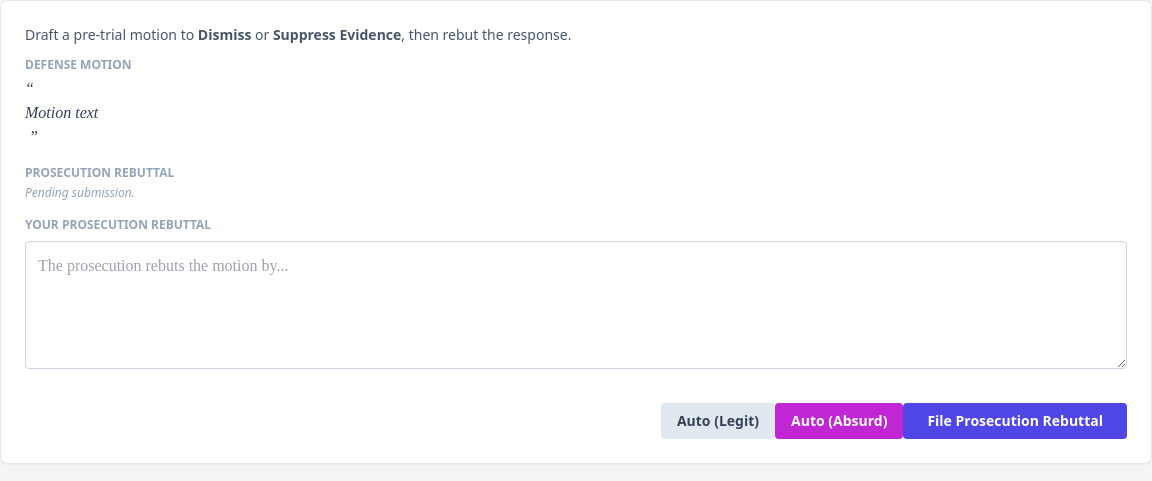
Scenario: docket section submitted text rendering › renders debug auto-generate controls and applies generated motion text
Click the button "Auto (Legit)": (718, 421) [661, 403, 775, 439]
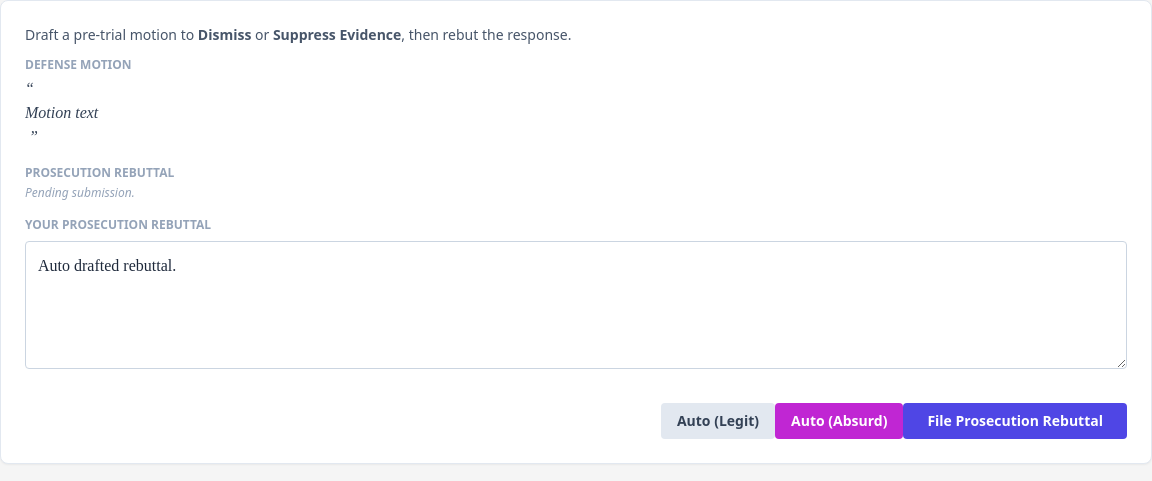
Result: the text box showing "Auto drafted rebuttal." is shown at [25, 241, 1127, 369]
